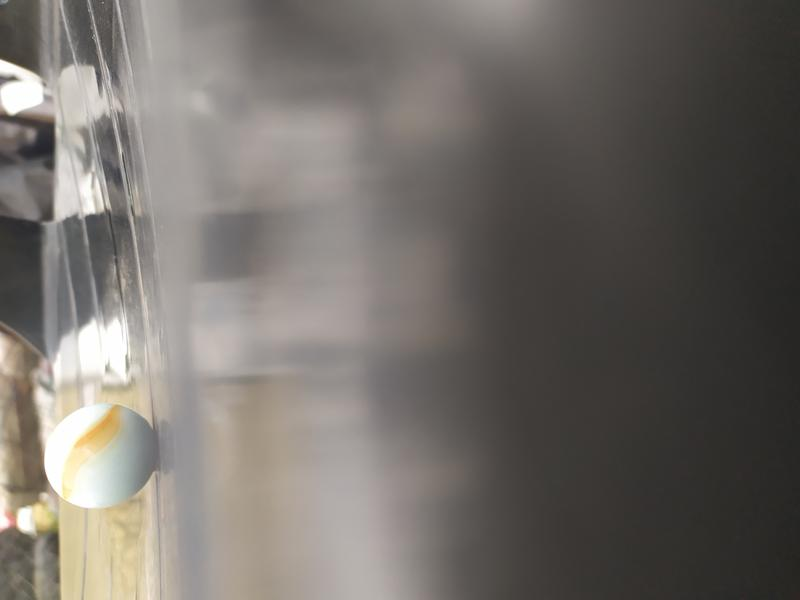Warning: (40, 397, 161, 513)
